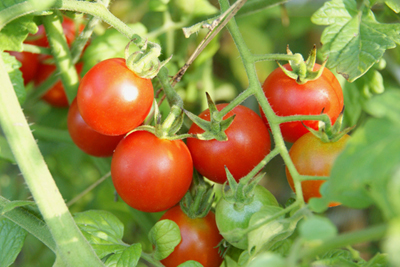stems: (235, 146, 277, 196), (210, 88, 250, 131), (253, 53, 306, 78), (277, 113, 331, 134), (157, 104, 184, 137), (138, 39, 163, 74), (187, 182, 208, 216)
tomato: (260, 58, 345, 145), (184, 103, 273, 186), (111, 128, 193, 213), (283, 129, 362, 208), (78, 58, 154, 135), (153, 204, 229, 267), (68, 95, 125, 157)
